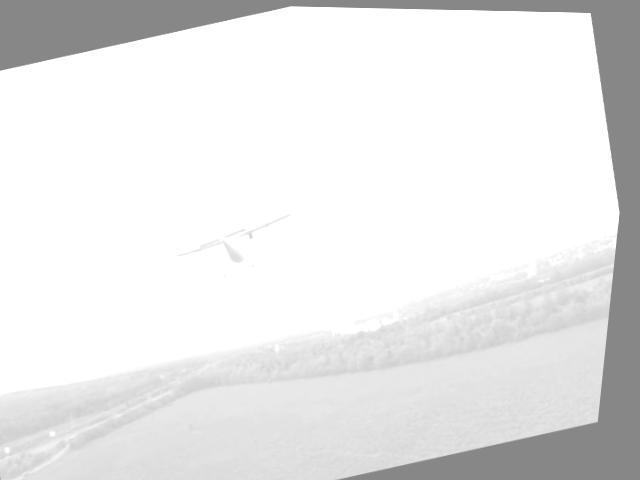hedef: (147, 178, 320, 298)
